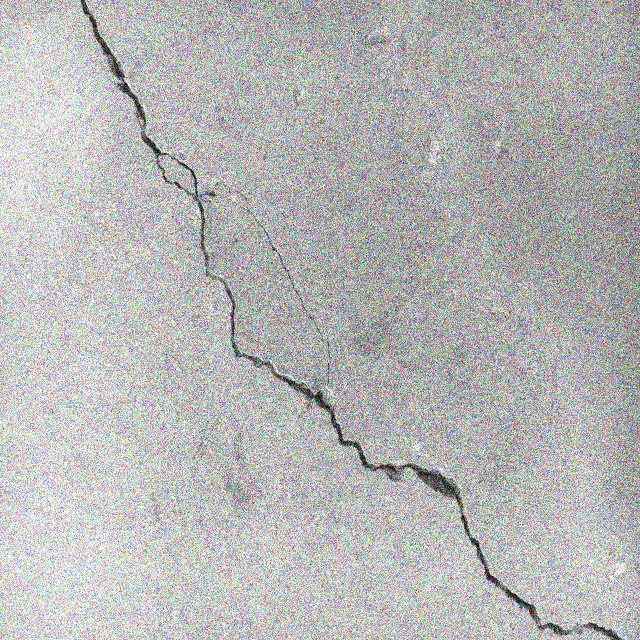SurfaceCrack: (1, 0, 640, 639)
